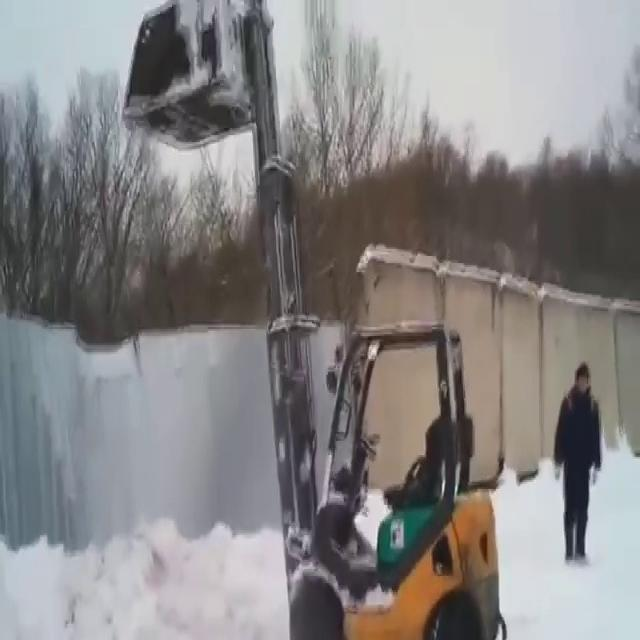Chariot elevateur: (256, 277, 523, 640)
